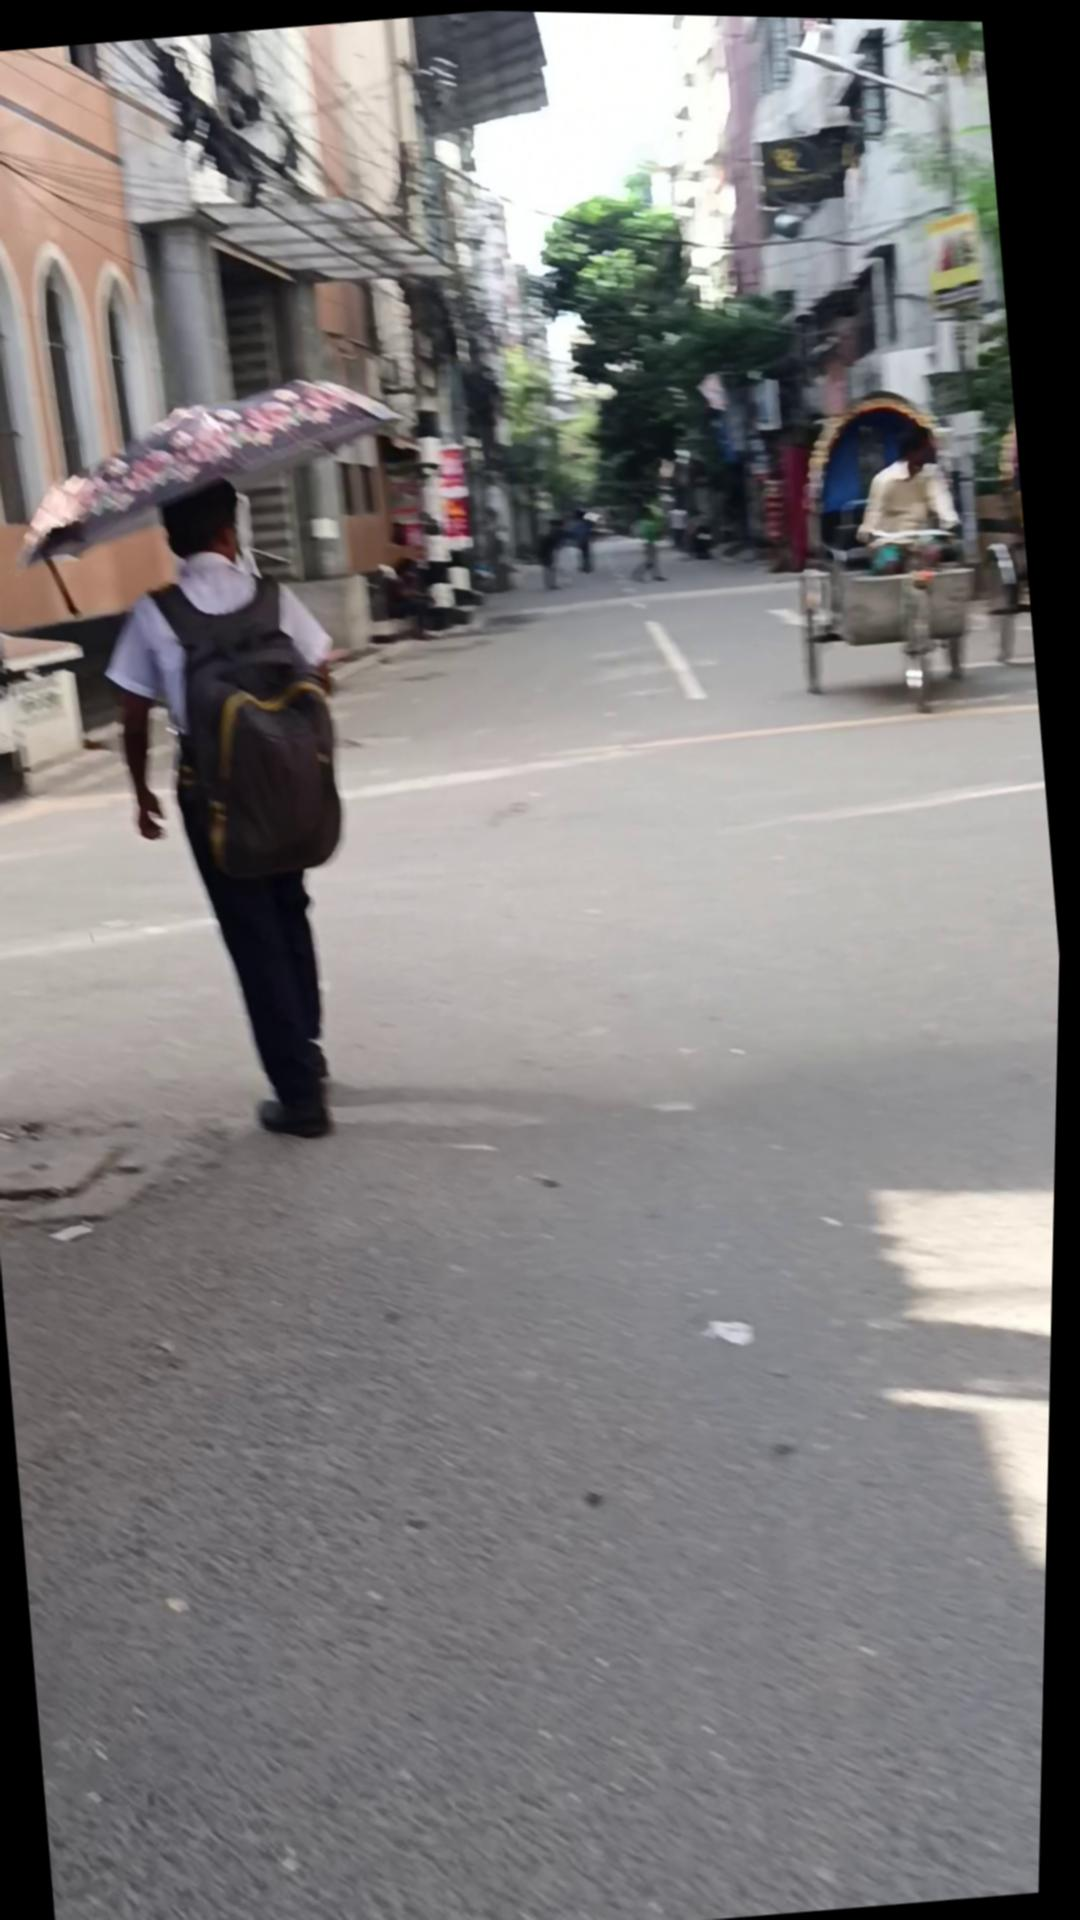Crosswalk: (342, 674, 1043, 814)
Motorcycle: (789, 516, 996, 721)
Muddy road: (78, 460, 397, 1155), (844, 415, 984, 684), (625, 498, 673, 580), (535, 513, 574, 588), (568, 504, 601, 571)
Pothole: (774, 369, 1044, 723)
